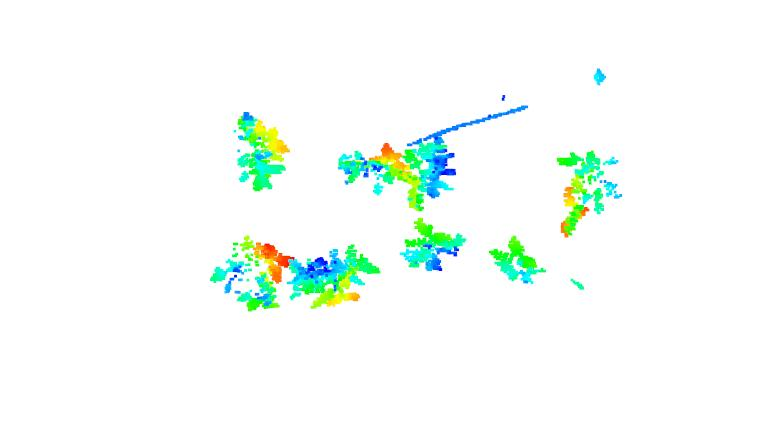chickpea: (207, 235, 299, 313), (554, 151, 627, 239), (287, 243, 381, 311), (230, 111, 292, 191), (398, 216, 467, 274), (407, 134, 454, 214), (338, 142, 411, 193), (488, 236, 548, 285)
